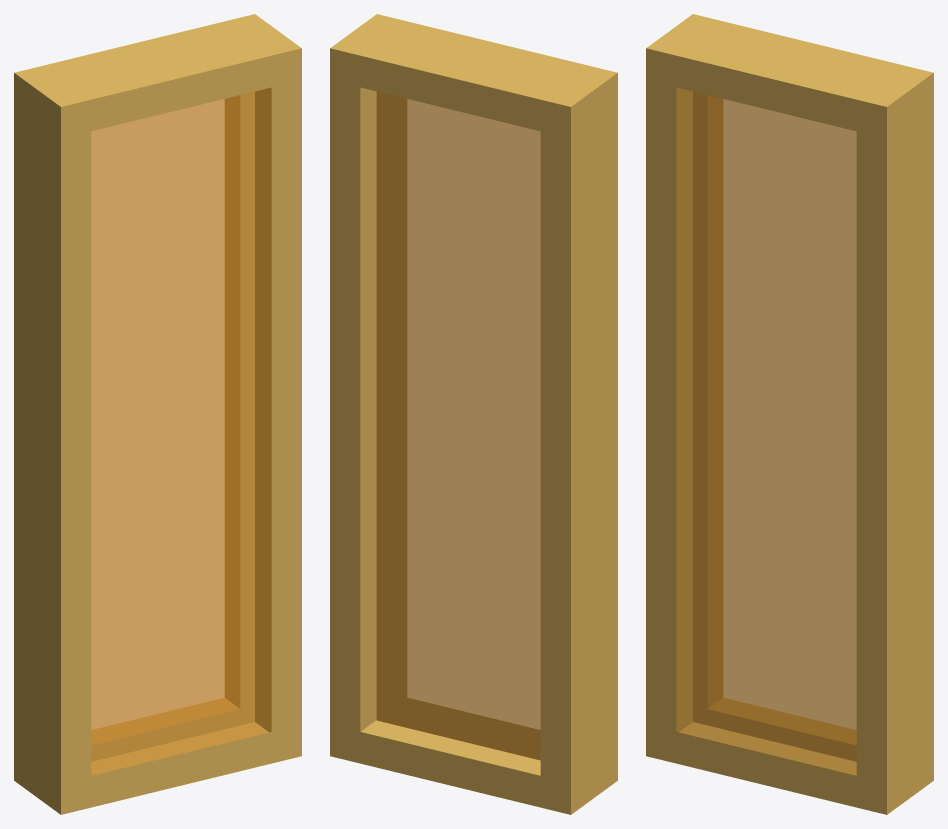
The model's file is muro_vetro_arancione_regina.fbx.
The picture shows the model from 3 angles, left to right: view 1: azimuth 30°, elevation 25°; view 2: azimuth 150°, elevation 25°; view 3: azimuth 330°, elevation 25°; orthographic projection.
Parts seen in each view (by area): view 1: pareteGrande_mod02.002, pareteGrande_mod02.003; view 2: pareteGrande_mod02.002, pareteGrande_mod02.003; view 3: pareteGrande_mod02.002, pareteGrande_mod02.003.
Part boxes in pixels (<box>): pareteGrande_mod02.002: <box>14,14,301,814</box>; pareteGrande_mod02.003: <box>91,87,271,775</box>; pareteGrande_mod02.002: <box>330,14,617,814</box>; pareteGrande_mod02.003: <box>376,91,540,759</box>; pareteGrande_mod02.002: <box>646,14,933,814</box>; pareteGrande_mod02.003: <box>676,87,856,775</box>.
Size of the model in its own units: 1770 by 4972 by 596.
